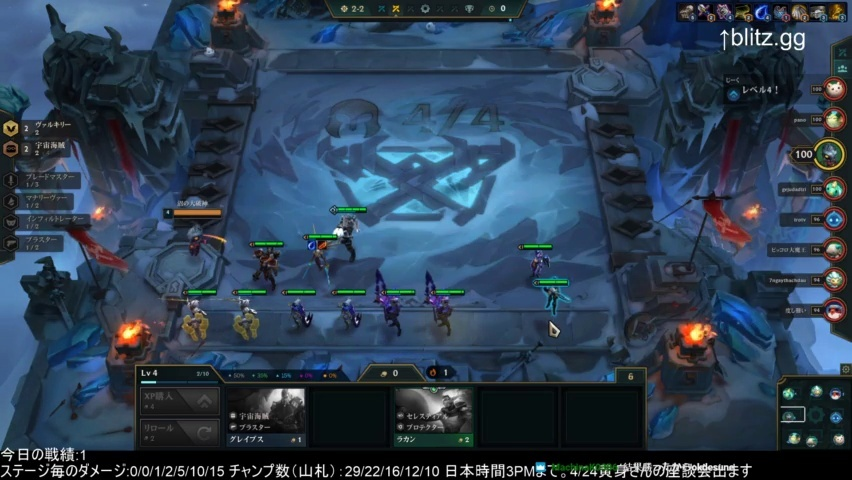caitlyn: (534, 273, 574, 331)
darius: (246, 235, 291, 293)
graves*2: (326, 202, 372, 263)
jarvan4: (377, 282, 419, 343), (422, 281, 464, 340)
kaisa: (518, 233, 558, 292)
kayle: tear, guinsoo: (301, 231, 339, 289)
leona: (172, 283, 226, 346), (230, 284, 271, 346)
xayah: (280, 284, 320, 344), (328, 288, 365, 339)
